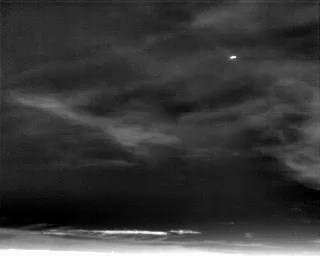AIRPLANE: (227, 52, 239, 62)
